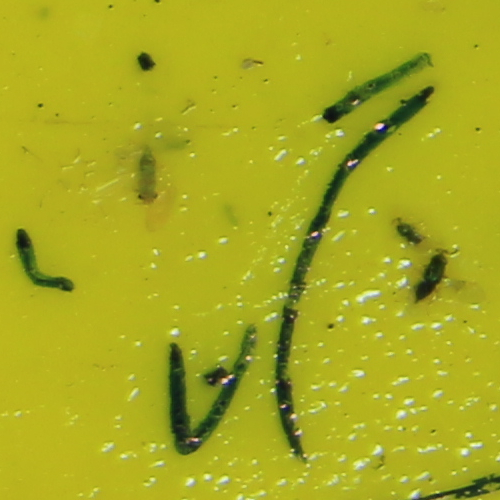Glycaspis: (133, 142, 157, 207)
Psyllaephagus: (407, 252, 452, 300)
